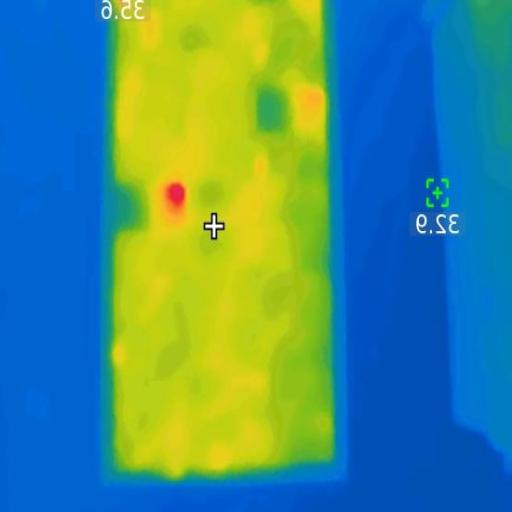hotspot: (165, 182, 186, 210)
